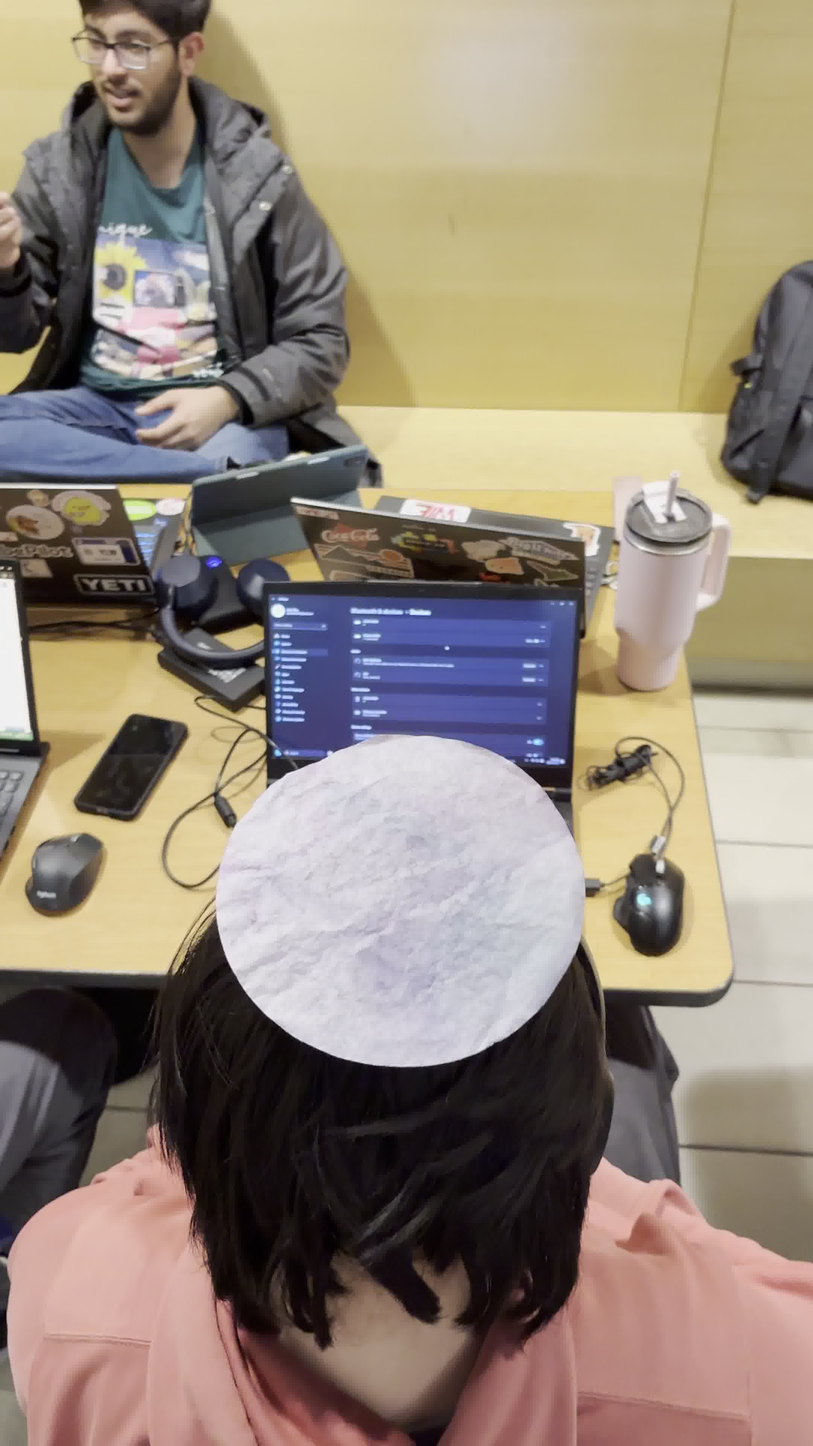Target: (214, 733, 585, 1068)
